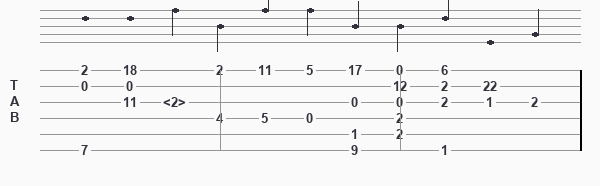0: (81, 79, 92, 93), (126, 79, 137, 93), (306, 111, 317, 125), (351, 95, 362, 109), (396, 63, 407, 77), (396, 95, 407, 109)
1: (351, 127, 362, 141), (441, 143, 452, 157), (486, 95, 497, 109)
11: (123, 95, 141, 109), (258, 63, 276, 77)
12: (393, 79, 411, 93)
17: (348, 63, 366, 77)
18: (123, 63, 141, 77)
2: (81, 63, 92, 77), (216, 63, 227, 77), (396, 127, 407, 141), (396, 111, 407, 125), (441, 95, 452, 109), (441, 79, 452, 93), (531, 95, 542, 109)
22: (483, 79, 501, 93)
4: (216, 111, 227, 125)
5: (261, 111, 272, 125), (306, 63, 317, 77)
6: (441, 63, 452, 77)
7: (81, 143, 92, 157)
9: (351, 143, 362, 157)
harmonic: (163, 95, 190, 109)
